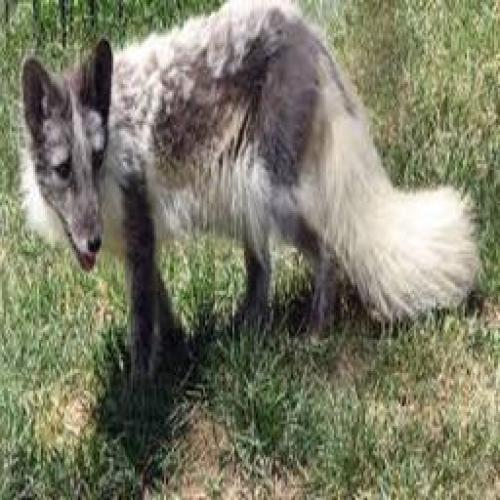arctic_fox-endangered: (25, 6, 478, 383)
